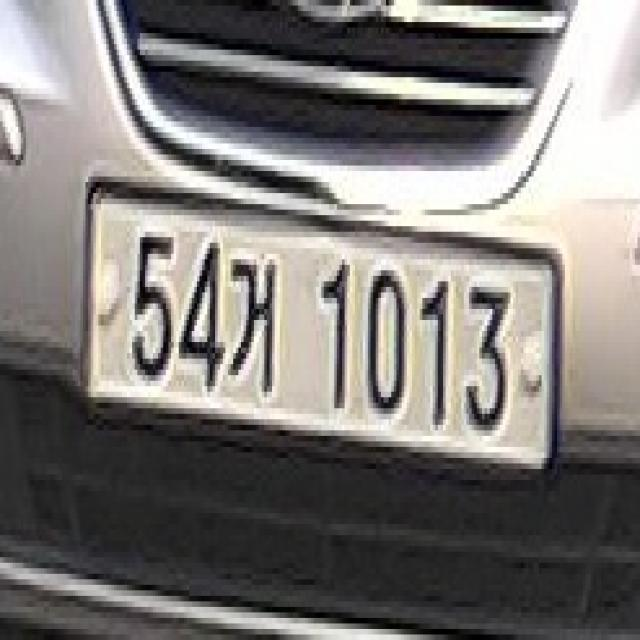0: (366, 248, 414, 425)
1: (316, 237, 355, 414), (419, 259, 458, 436)
3: (464, 265, 513, 430)
4: (173, 226, 236, 397)
5: (109, 210, 176, 380)
geo: (220, 237, 285, 397)
license_plate: (72, 166, 560, 524)
